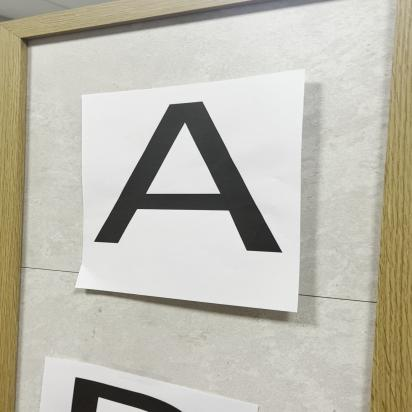seat: (83, 95, 316, 264)
